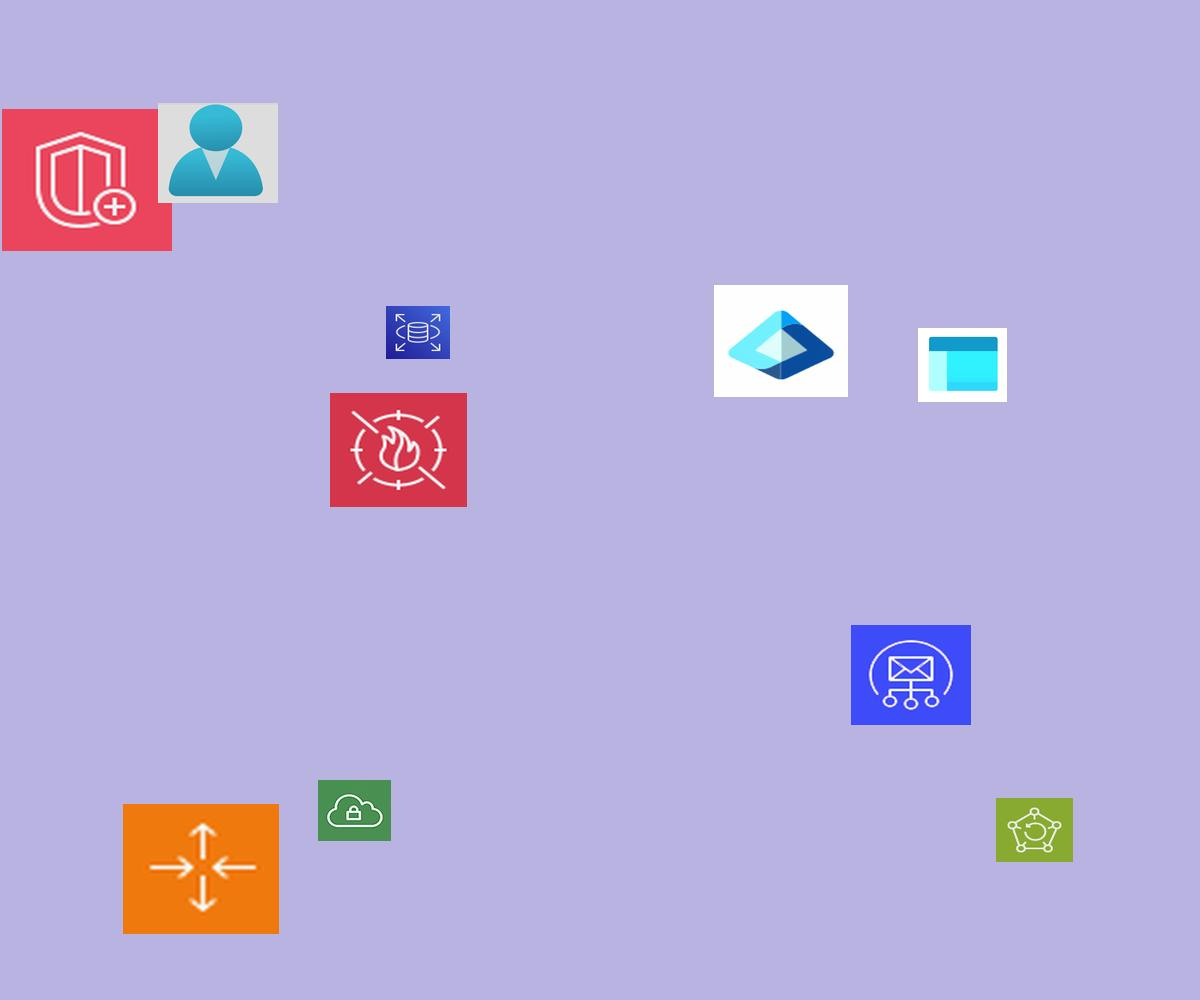AWS-Backup: (996, 798, 1073, 862)
AWS-Private_vpc: (318, 780, 391, 841)
AWS-RDS: (386, 306, 450, 359)
AWS-Scaling-group: (123, 804, 279, 934)
AWS-Shield: (2, 109, 172, 251)
AWS-Simple-Email-Service: (851, 625, 971, 725)
AWS-WAF: (330, 393, 467, 507)
Azure_management-portal: (918, 328, 1007, 402)
Azure_microsoft_entra: (714, 285, 848, 397)
Azure_users: (158, 103, 278, 203)
